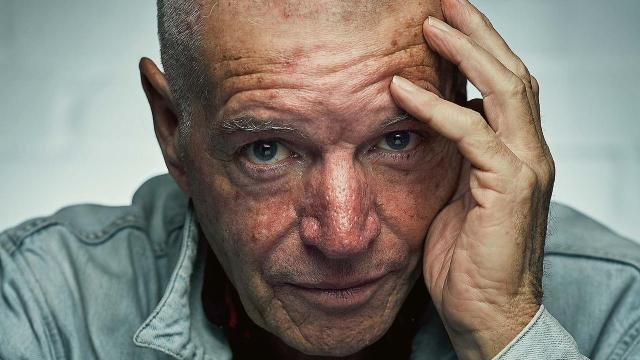chin: (279, 300, 307, 338)
crows_feet: (211, 144, 237, 170)
forehead: (225, 86, 278, 105), (379, 39, 417, 57), (224, 63, 258, 82)
